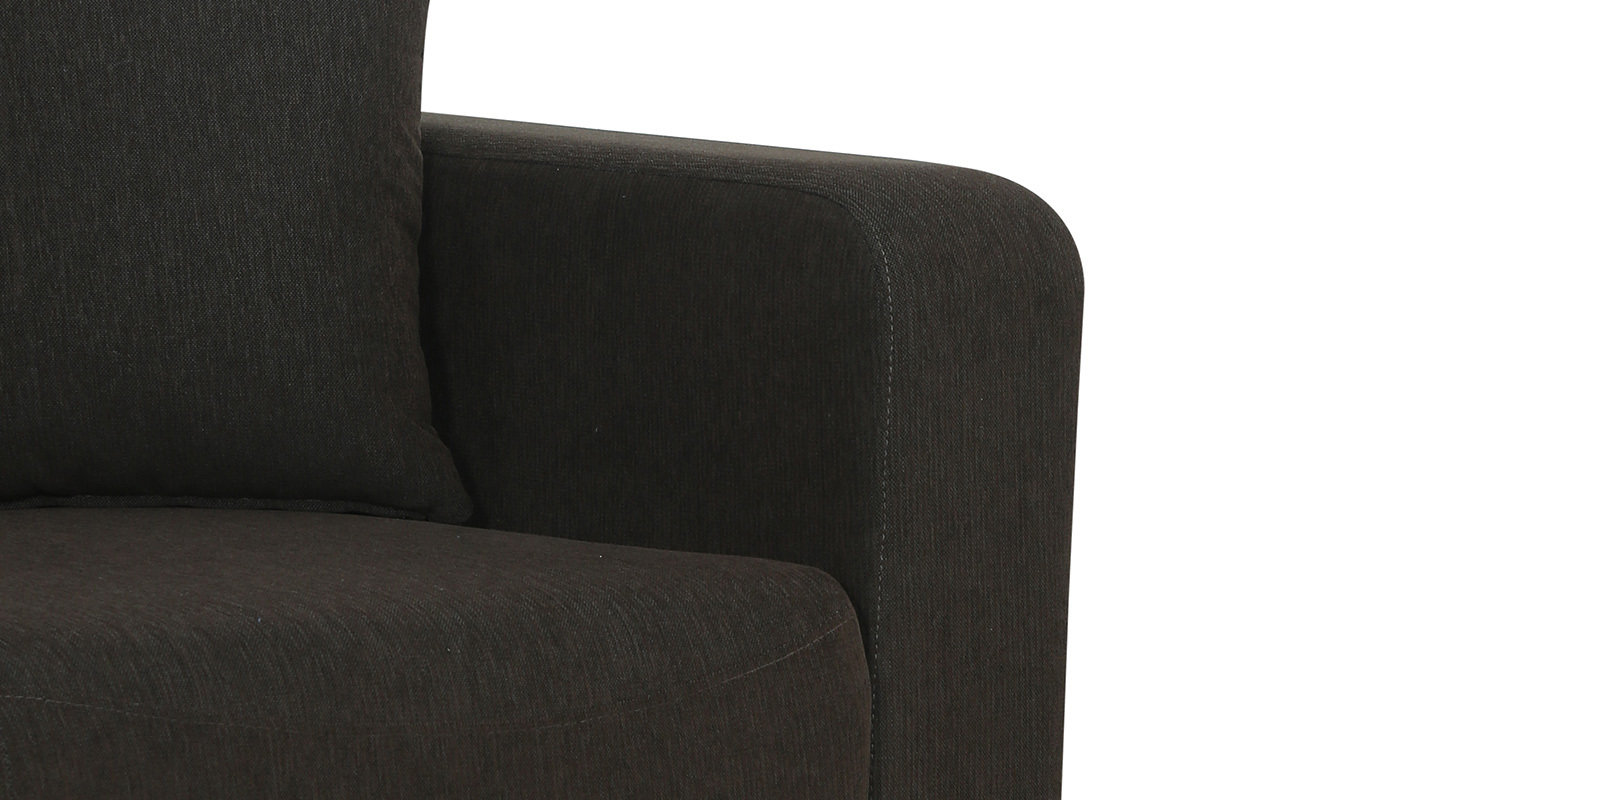Alba Three Seater Sofa in Chestnut Brown Colour by CasaCraft: (8, 9, 1098, 800)
